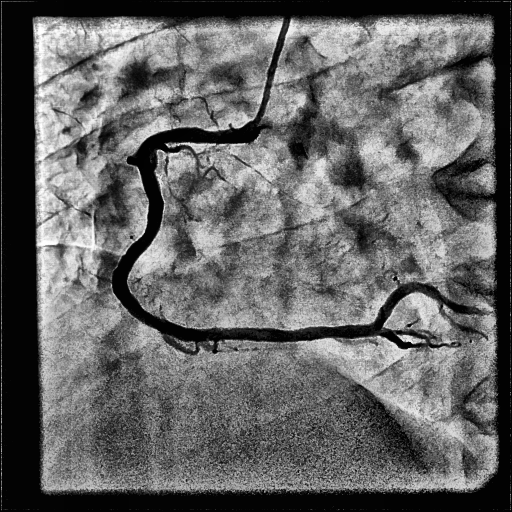pborca: (373, 283, 477, 331)
pda: (379, 328, 460, 348)
rca: (112, 127, 379, 342)
